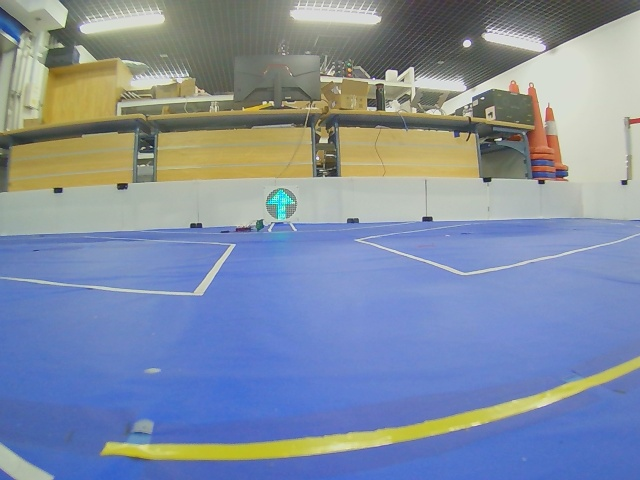straight_green: (266, 188, 297, 221)
